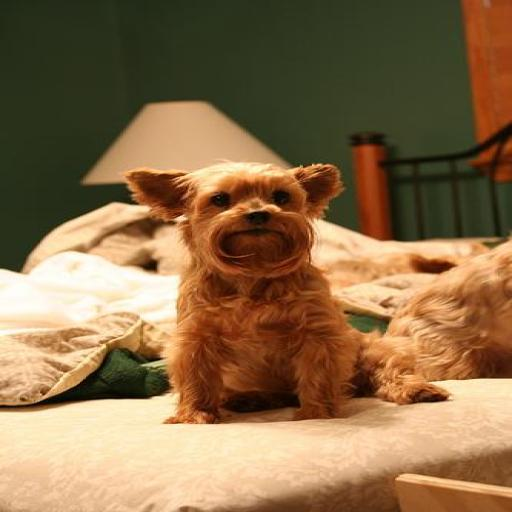dog_face: (127, 162, 340, 282)
